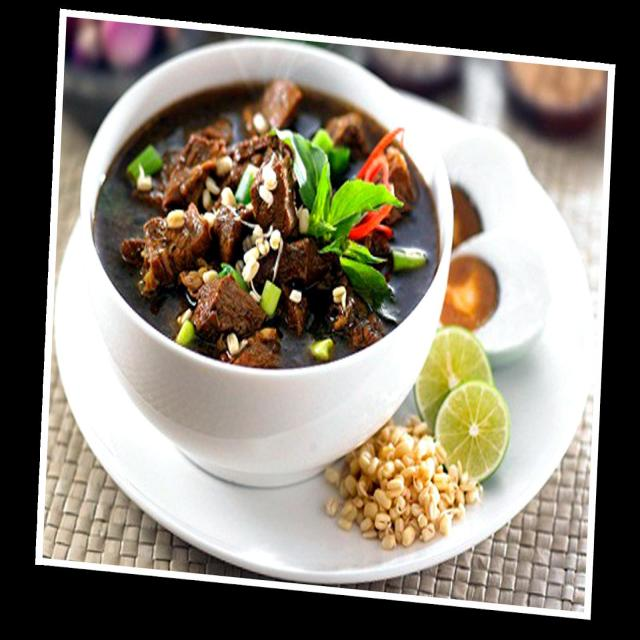Rawon: (77, 64, 436, 378)
